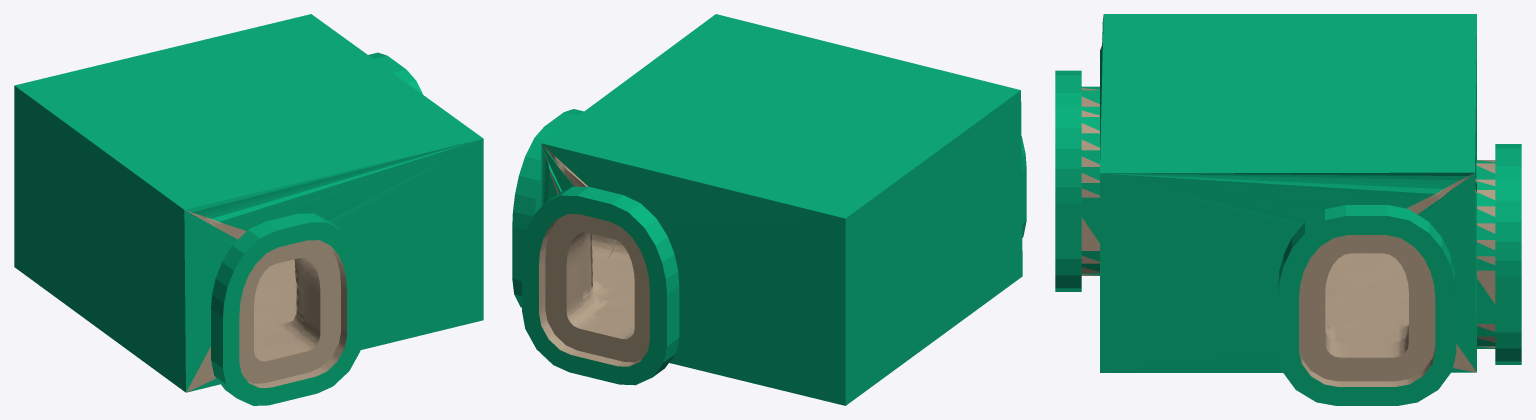
File: TT_Room.fbx
3 renders of one model, left to right at view 1: azimuth 30°, elevation 25°; view 2: azimuth 150°, elevation 25°; view 3: azimuth 270°, elevation 25°, orthographic. The views are drawn at different scales.
Parts seen in each view (by area): view 1: TT_Room_LOD0; view 2: TT_Room_LOD0; view 3: TT_Room_LOD0.
Part boxes in pixels (x1=…): TT_Room_LOD0: x1=14, y1=14, x2=483, y2=405; TT_Room_LOD0: x1=512, y1=14, x2=1026, y2=405; TT_Room_LOD0: x1=1055, y1=14, x2=1521, y2=405.
Size of the model in its own units: 805 by 450 by 890.
